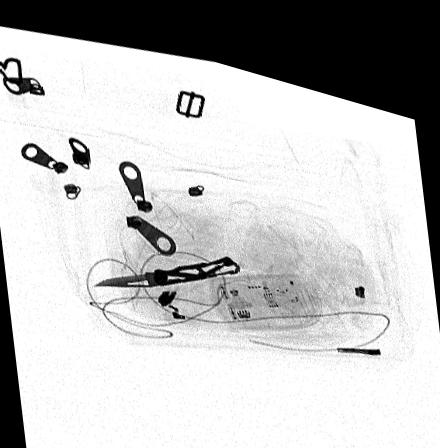Knife: (91, 241, 240, 281)
